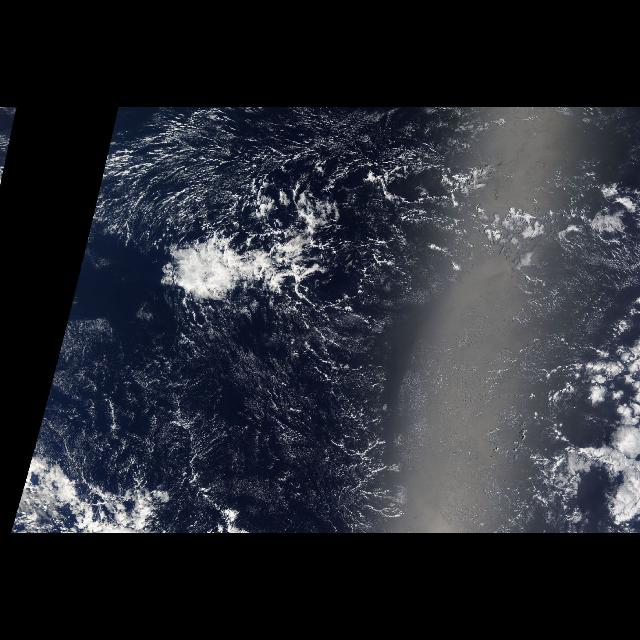Gravel: (93, 111, 407, 241)
Sugar: (33, 296, 530, 522), (92, 110, 396, 224)
